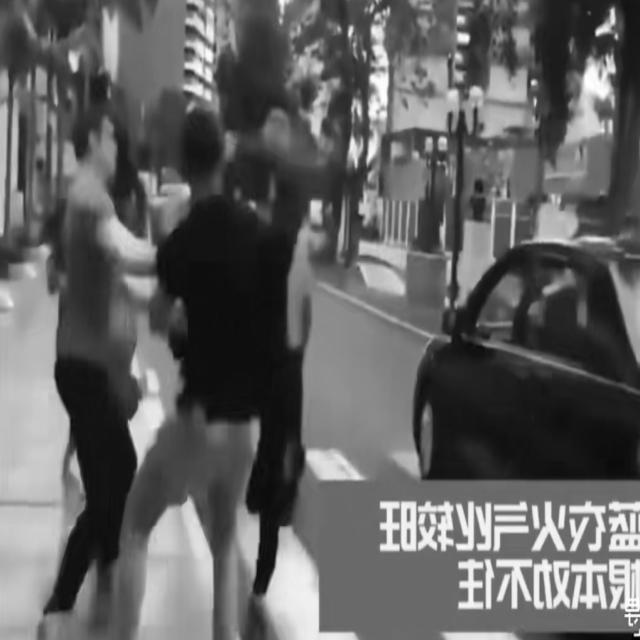fight: (146, 92, 344, 352)
nofight: (35, 108, 142, 634)
